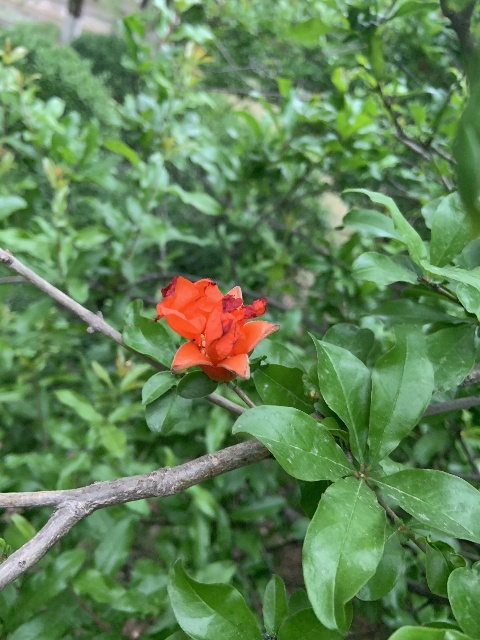flower: (154, 276, 279, 381)
